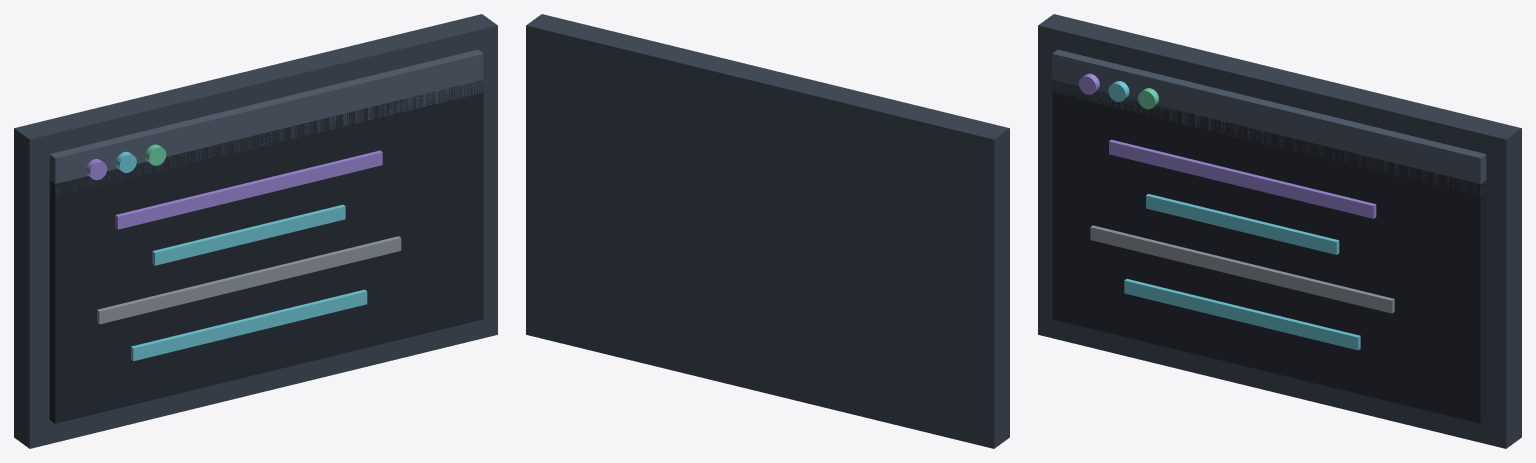
The model's file is terminal.glb.
3 renders of one model, left to right at view 1: azimuth 30°, elevation 25°; view 2: azimuth 150°, elevation 25°; view 3: azimuth 330°, elevation 25°, orthographic.
Visible parts, largest first — view 1: screen, body, top, line2, line0, line3, line1; view 2: body; view 3: screen, body, top, line2, line0, line3, line1.
Boxes of the visible parts, bbox=[...] form: screen: bbox=[49, 80, 483, 423]; body: bbox=[14, 14, 497, 448]; top: bbox=[49, 49, 483, 196]; line2: bbox=[97, 236, 401, 324]; line0: bbox=[115, 150, 382, 229]; line3: bbox=[131, 289, 367, 361]; line1: bbox=[152, 204, 345, 265]; body: bbox=[526, 14, 1009, 448]; screen: bbox=[1052, 79, 1486, 423]; body: bbox=[1038, 14, 1521, 448]; top: bbox=[1052, 49, 1486, 195]; line2: bbox=[1090, 225, 1394, 313]; line0: bbox=[1109, 139, 1376, 218]; line3: bbox=[1124, 279, 1360, 350]; line1: bbox=[1146, 194, 1339, 254].
Size of the model in its own units: 3.8 by 2.4 by 0.3575.
